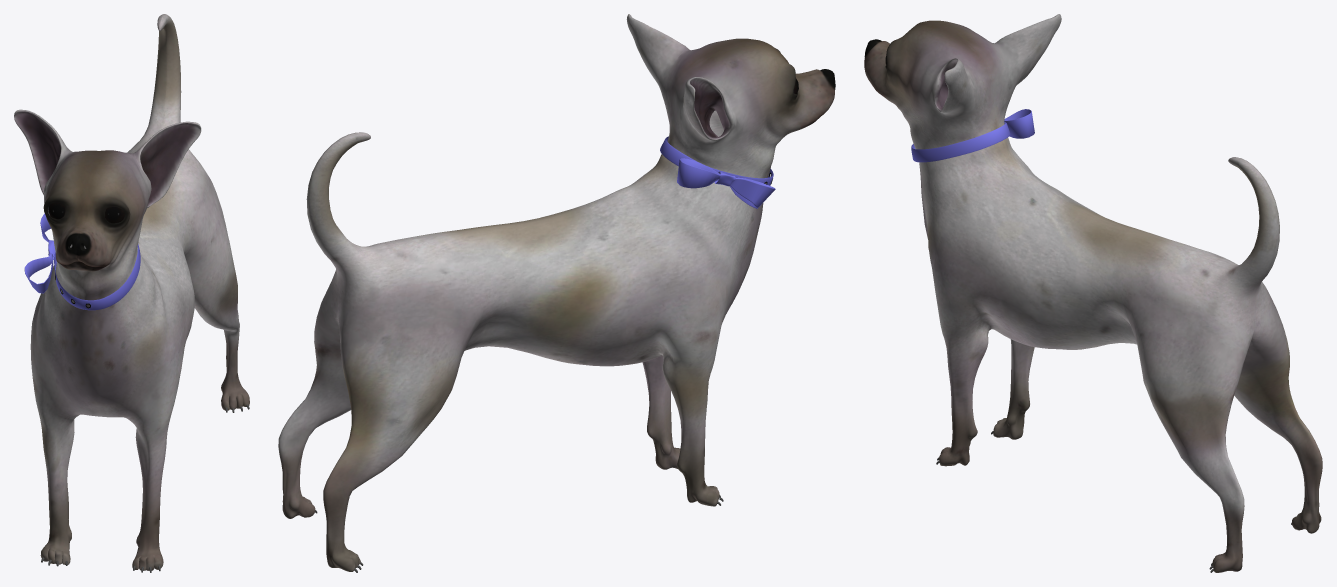
The picture shows the model from 3 angles, left to right: view 1: azimuth 30°, elevation 25°; view 2: azimuth 150°, elevation 25°; view 3: azimuth 270°, elevation 25°; orthographic projection. The views are drawn at different scales.
Visible parts, largest first — view 1: dog; view 2: dog; view 3: dog.
Boxes of the visible parts, left/top/right/bottom form: dog: left=14, top=14, right=249, bottom=572; dog: left=278, top=14, right=835, bottom=572; dog: left=864, top=14, right=1322, bottom=572.
Size of the model in its own units: 0.0331 by 0.0378 by 0.0378.
3 materials, 3 textured.
